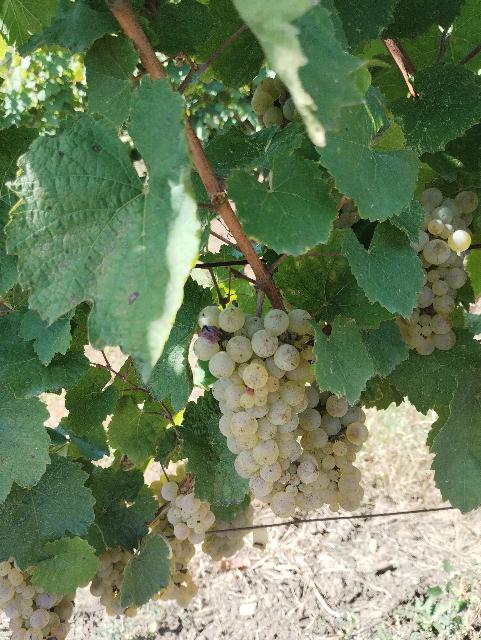grapes: (194, 305, 312, 515), (396, 188, 479, 356), (300, 384, 369, 511), (161, 480, 215, 545)
